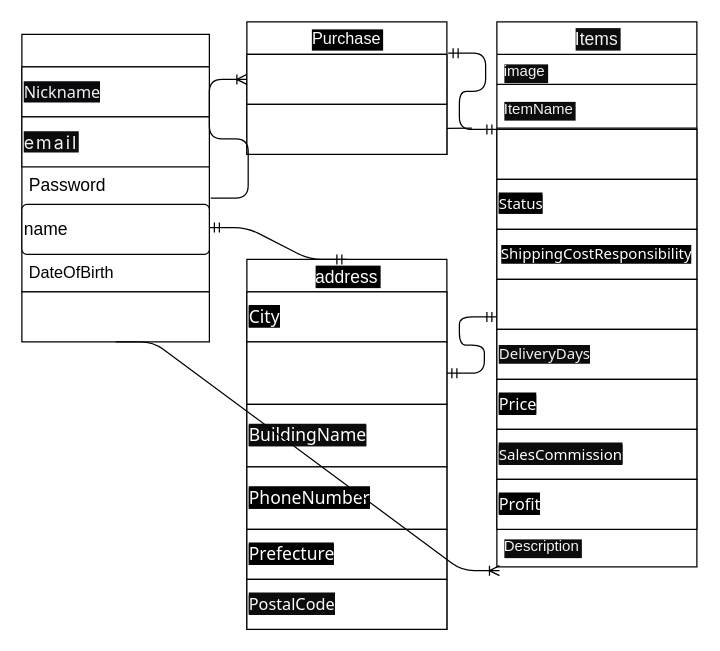
The diagram is 720 pixels wide and 651 high, and some of its shapes have lost their labels. Here are the shapes that lost their labels. From the top down, the box of each, then its label:
(246, 53, 447, 104): User_id
(246, 103, 447, 154): Items_id
(21, 33, 209, 292): User
(496, 128, 697, 179): Category
(21, 291, 209, 342): Id
(496, 278, 697, 329): OriginRegion
(246, 341, 447, 404): StreetAddress
